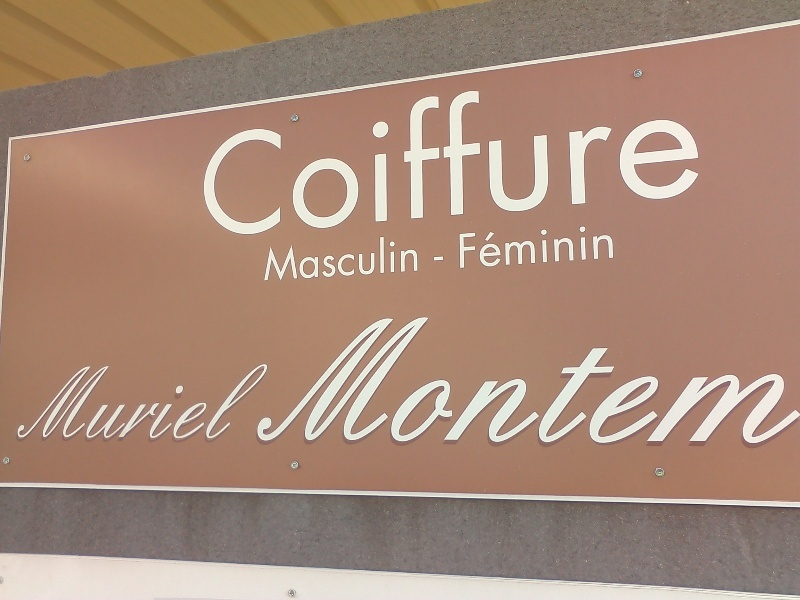text: (209, 65, 224, 244), (225, 65, 240, 244), (241, 65, 256, 244), (257, 65, 272, 244), (273, 65, 288, 244), (289, 65, 304, 244), (305, 65, 320, 244), (321, 65, 336, 244), (337, 65, 352, 244), (353, 65, 368, 244), (369, 65, 384, 244), (385, 65, 400, 244), (401, 65, 416, 244), (417, 65, 432, 244), (433, 65, 448, 244), (449, 65, 464, 244), (465, 65, 480, 244), (481, 65, 496, 244), (497, 65, 512, 244), (513, 65, 528, 244), (529, 65, 544, 244), (545, 65, 560, 244), (561, 65, 576, 244), (577, 65, 592, 244), (593, 65, 608, 244), (609, 65, 624, 244), (625, 65, 640, 244), (641, 65, 656, 244), (657, 65, 672, 244), (673, 65, 688, 244), (689, 65, 704, 244), (353, 315, 368, 450), (369, 315, 384, 450), (385, 315, 400, 450), (401, 315, 416, 450), (417, 315, 432, 450), (433, 315, 448, 450), (449, 315, 464, 450), (465, 315, 480, 450), (481, 315, 496, 450), (497, 315, 512, 450), (513, 315, 528, 450), (529, 315, 544, 450), (545, 315, 560, 450), (561, 315, 576, 450), (577, 315, 592, 450), (593, 315, 608, 450), (609, 315, 624, 450), (625, 315, 640, 450), (641, 315, 656, 450), (657, 315, 672, 450), (673, 315, 688, 450), (689, 315, 704, 450), (705, 315, 720, 450), (721, 315, 736, 450), (737, 315, 752, 450), (753, 315, 768, 450), (769, 315, 784, 450), (785, 315, 800, 450), (340, 315, 352, 450), (65, 361, 80, 446), (81, 361, 96, 446), (97, 361, 112, 446), (113, 361, 128, 446), (129, 361, 144, 446), (145, 361, 160, 446), (161, 361, 176, 446), (177, 361, 192, 446), (193, 361, 208, 446), (209, 361, 224, 446), (225, 361, 240, 446), (241, 361, 256, 446), (257, 361, 272, 446), (201, 65, 208, 244), (273, 232, 288, 282), (289, 232, 304, 282), (305, 232, 320, 282), (321, 232, 336, 282), (337, 232, 352, 282), (353, 232, 368, 282), (369, 232, 384, 282), (385, 232, 400, 282), (401, 232, 416, 282), (465, 222, 480, 271), (481, 222, 496, 271), (497, 222, 512, 271), (513, 222, 528, 271), (529, 222, 544, 271), (545, 222, 560, 271), (561, 222, 576, 271), (577, 222, 592, 271), (593, 222, 608, 271), (705, 65, 708, 244), (58, 361, 64, 446), (609, 222, 619, 271), (273, 361, 278, 446), (417, 232, 423, 282), (458, 222, 464, 271), (433, 253, 447, 266), (269, 232, 272, 282)
